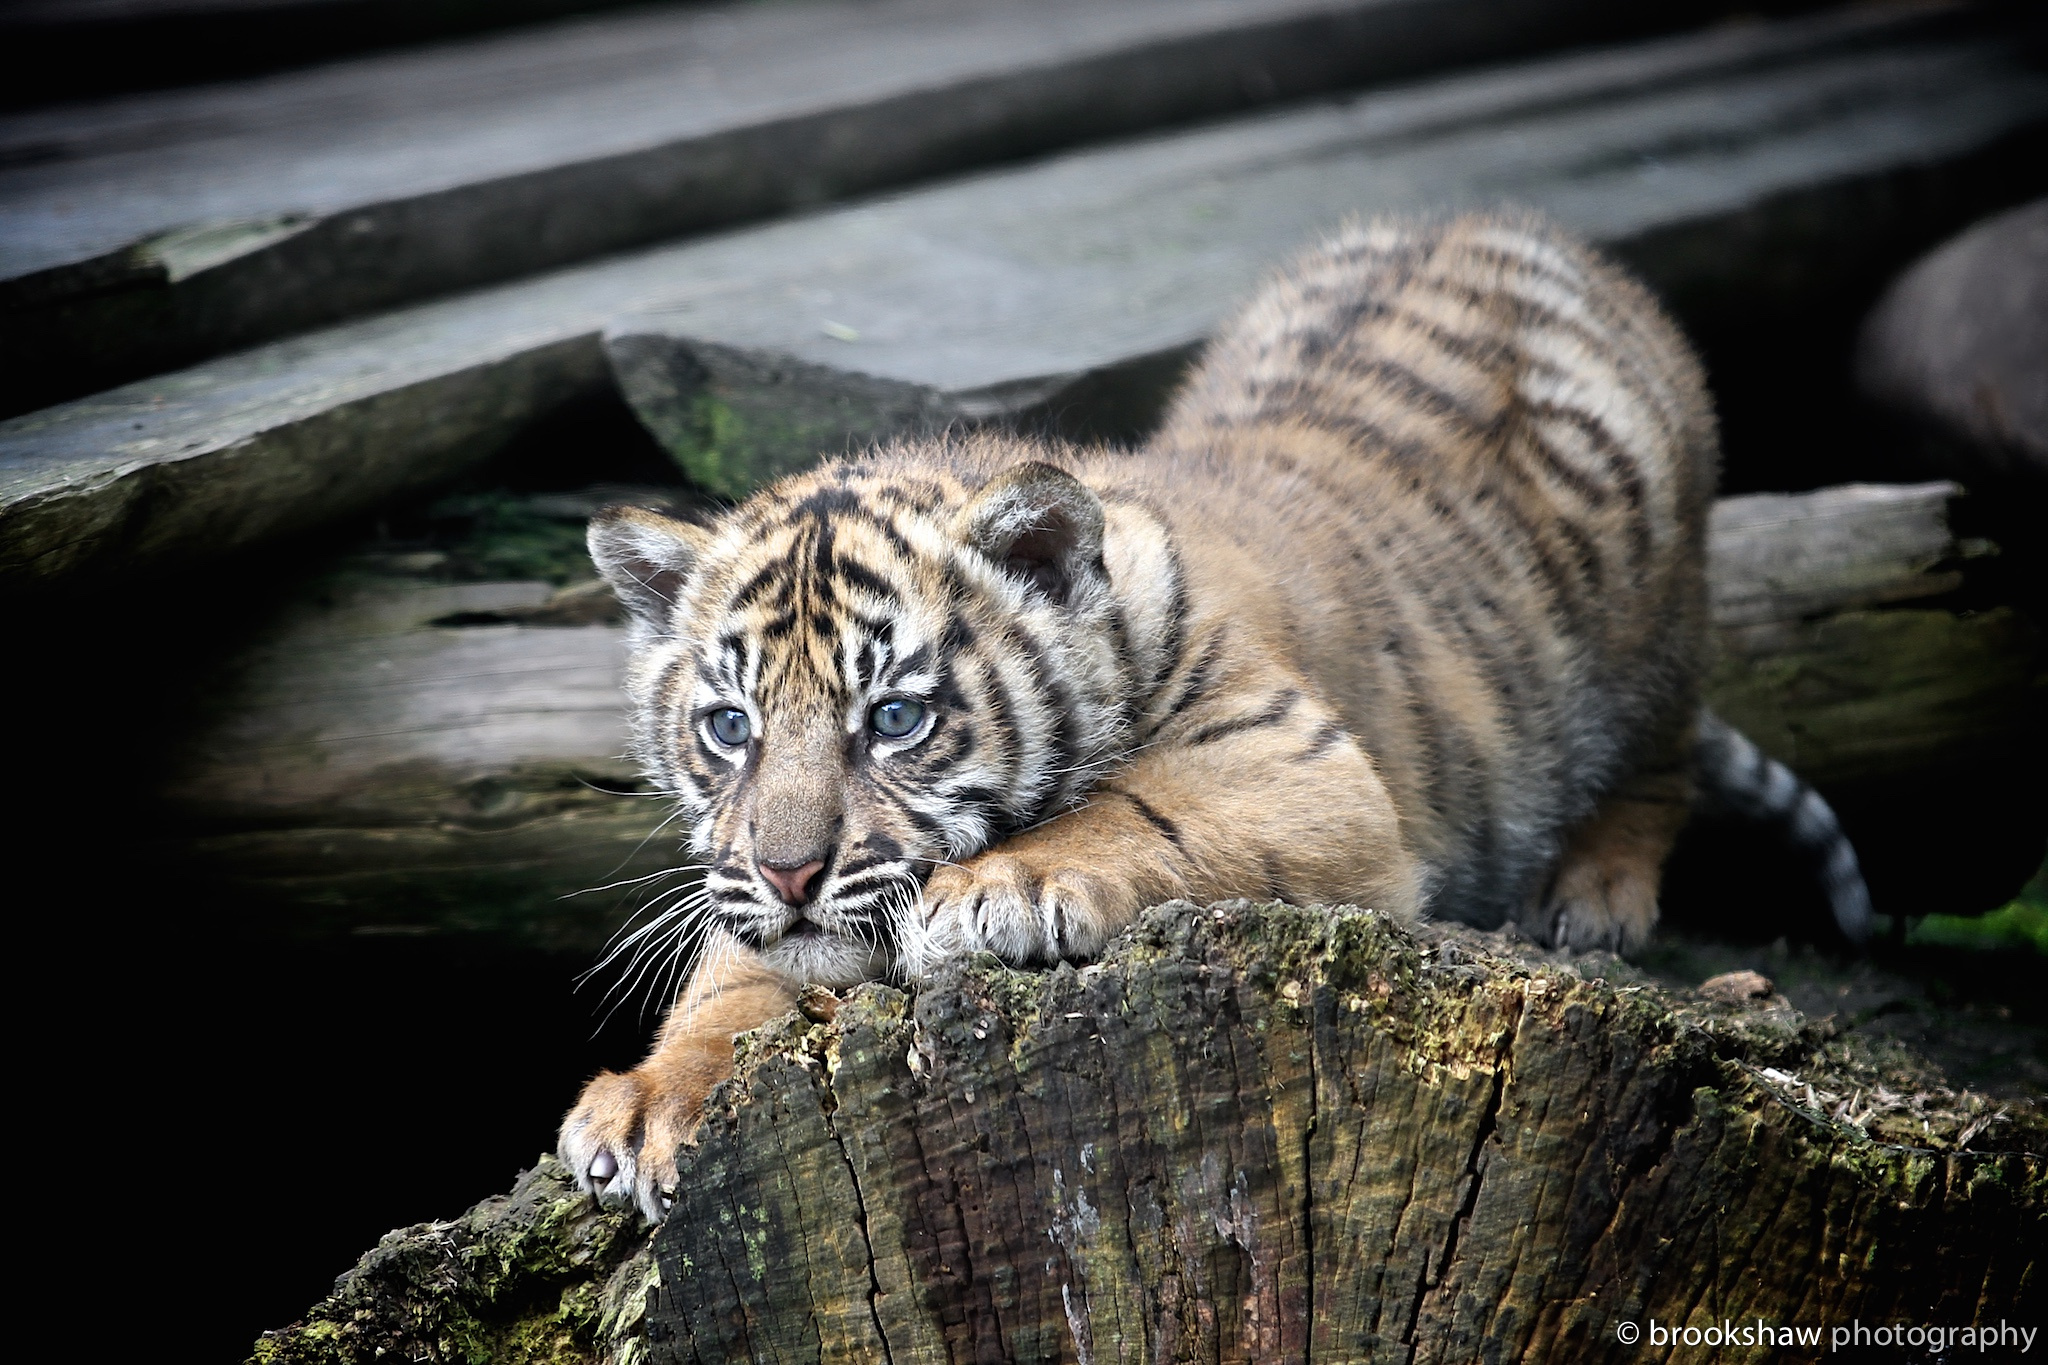tiger: (624, 180, 1740, 1121)
